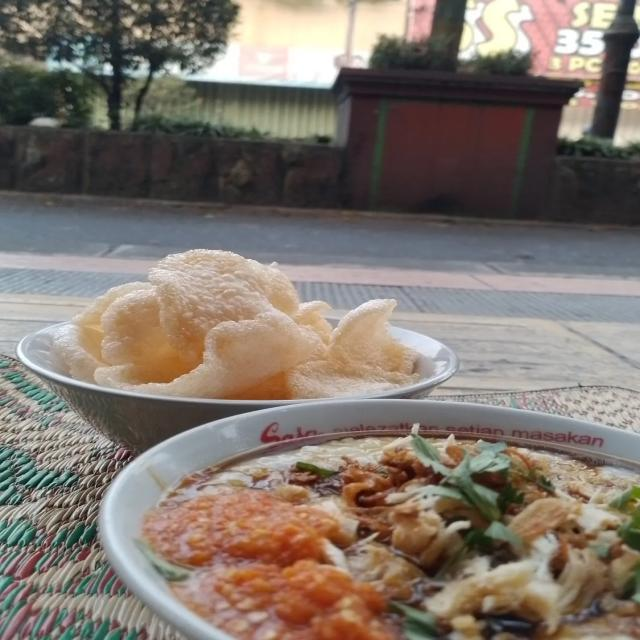bubur ayam: (143, 433, 640, 640)
mangkuk: (100, 397, 640, 640), (16, 316, 454, 459)
